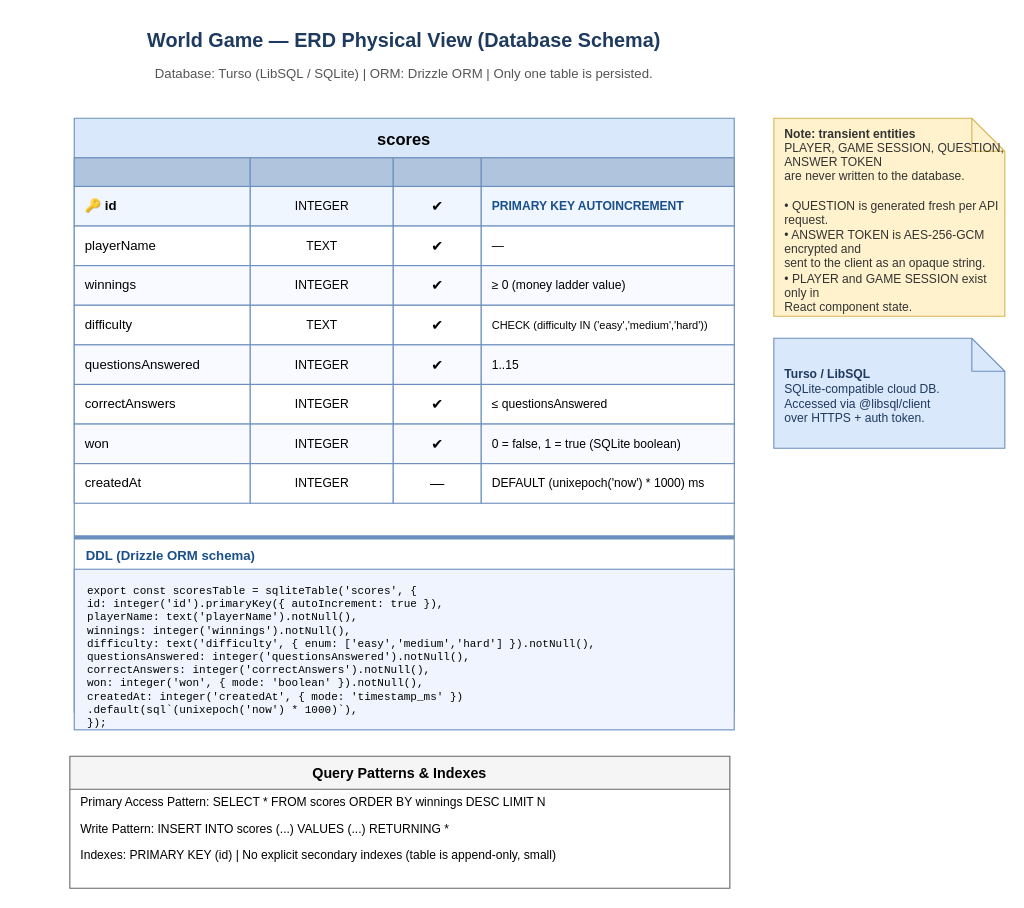
Some shapes in this 1024 by 908 pixel diagram are drawn without their labels. Each missing label, with the centre of its shape:
Column Name: point (161, 171)
Data Type: point (321, 171)
Default / Constraint: point (607, 171)
NOT NULL: point (436, 171)
